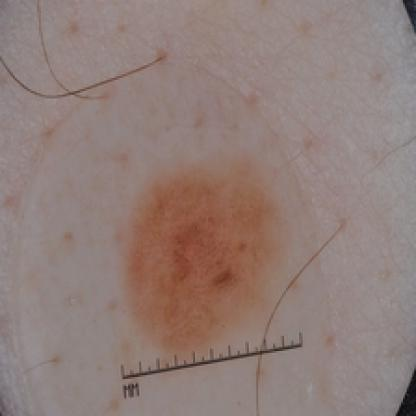malignant: (110, 182, 276, 312)
